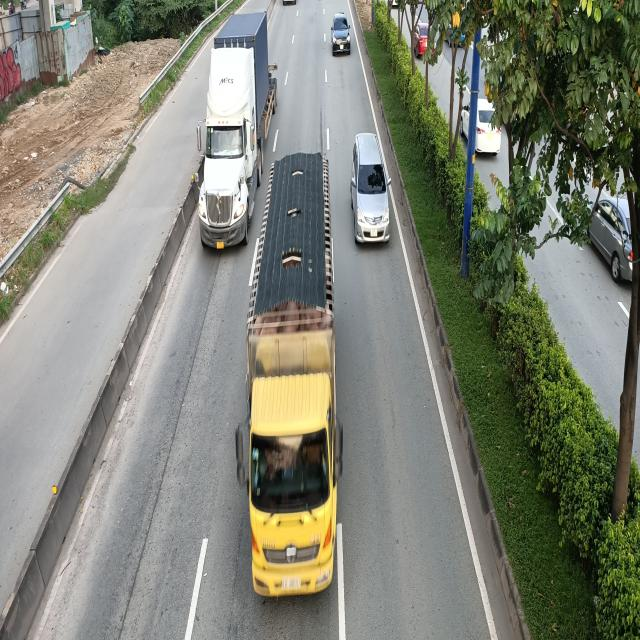car: (350, 135, 390, 248), (332, 12, 352, 56)
container: (235, 153, 342, 612), (199, 6, 281, 251)
